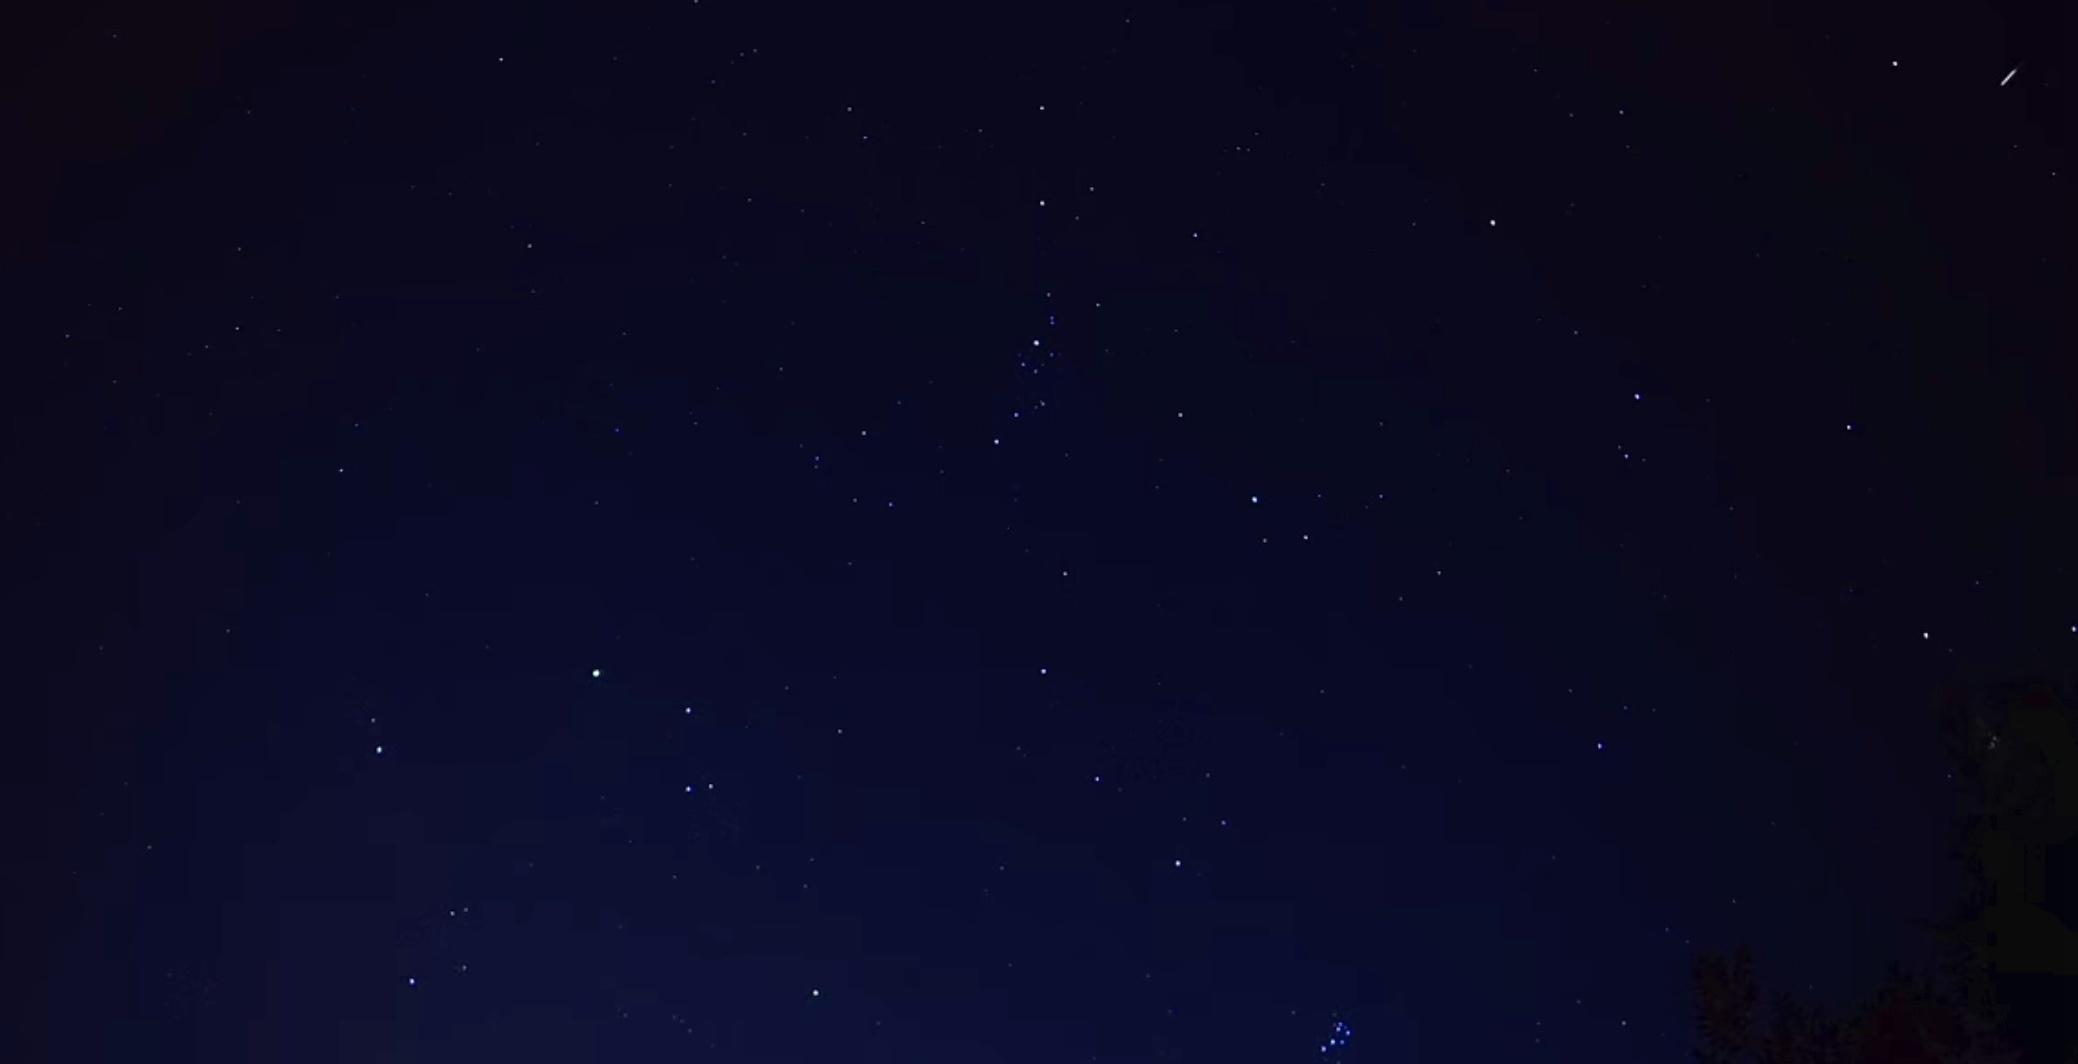meteorite: (1953, 54, 2062, 96)
